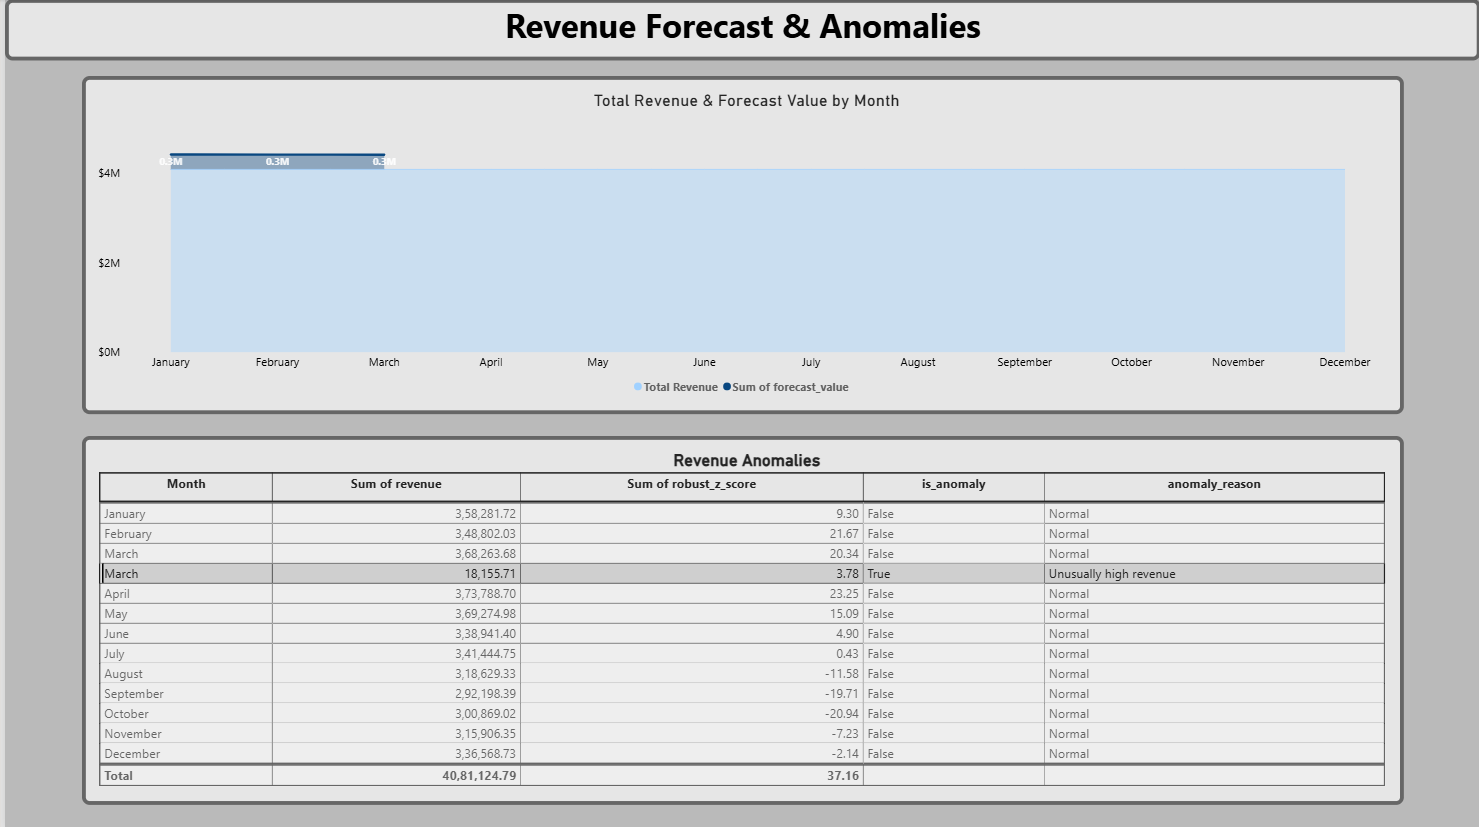

The dashboard page shown, as its layout file describes it:
{"tool":"powerbi","page":{"name":"Revenue Forecast & Anomalies","canvas":[1920,1080],"ordinal":2},"visuals":[{"type":"textbox","box":[0,0,1920,80],"z":0},{"type":"stackedAreaChart","title":"Total Revenue & Forecast Value by Month","fields":{"Category":["social_media_analytics forecast_results.forecast_date.Variation.Date Hierarchy.Year","social_media_analytics forecast_results.forecast_date.Variation.Date Hierarchy.Quarter","social_media_analytics forecast_results.forecast_date.Variation.Date Hierarchy.Month","social_media_analytics forecast_results.forecast_date.Variation.Date Hierarchy.Day"],"Y":["social_media_analytics anomaly_results.Total Revenue","Sum(social_media_analytics forecast_results.forecast_value)"]},"box":[100,100,1720,440],"z":1000},{"type":"tableEx","title":"Revenue Anomalies","fields":{"Values":["social_media_analytics anomaly_results.report_date.Variation.Date Hierarchy.Month","Sum(social_media_analytics anomaly_results.revenue)","Sum(social_media_analytics anomaly_results.robust_z_score)","social_media_analytics anomaly_results.is_anomaly","social_media_analytics anomaly_results.anomaly_reason"]},"box":[100.2,568.6,1720.2,480.1],"z":2000}]}

Visuals, with their boxes in screenshot pixels (x1, y1, x2, y2), scaled from the page's 1920x1080 canvas onto the 1479x827 screenshot:
textbox: <bbox>0, 0, 1478, 61</bbox>
"Total Revenue & Forecast Value by Month" stackedAreaChart: <bbox>77, 77, 1402, 414</bbox>
"Revenue Anomalies" tableEx: <bbox>77, 435, 1402, 803</bbox>
